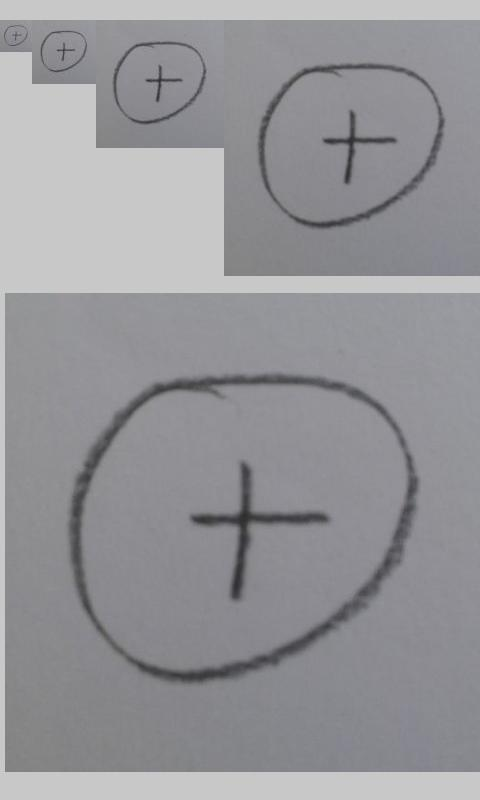button: (65, 372, 419, 687), (257, 62, 445, 228), (112, 41, 207, 125), (39, 30, 88, 73), (3, 24, 28, 47)
